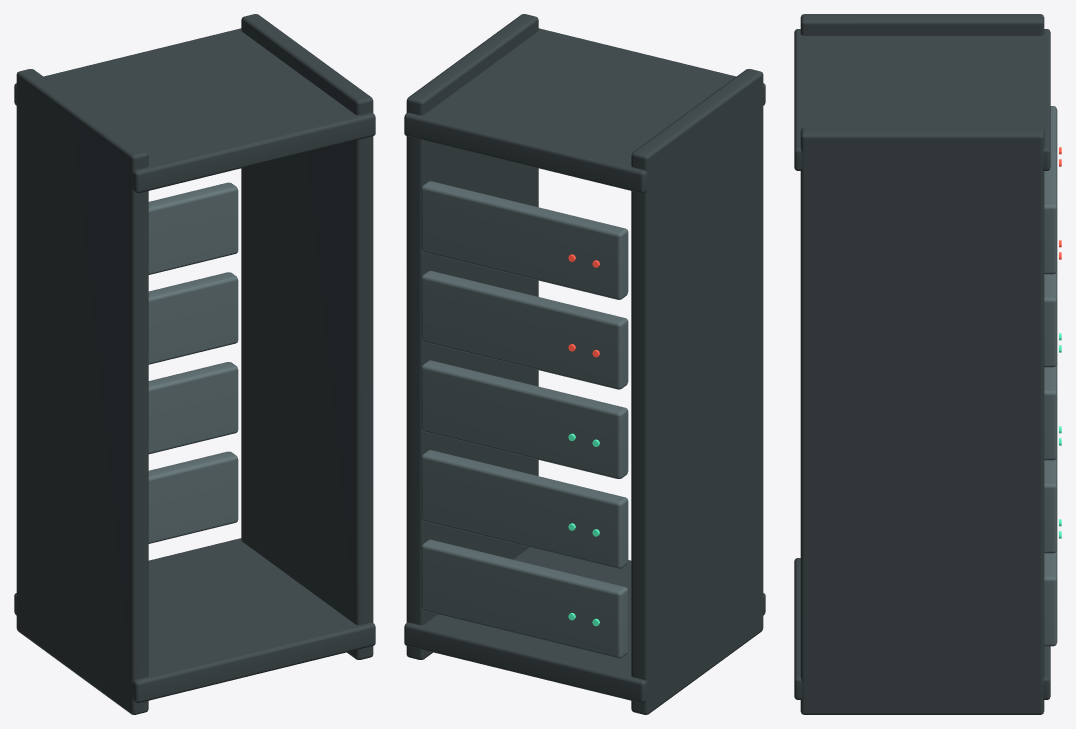
Rendered from equipment_rack.glb.
3 views of the same model, side by side, from view 1: azimuth 30°, elevation 25°; view 2: azimuth 150°, elevation 25°; view 3: azimuth 270°, elevation 25° (orthographic). The views are drawn at different scales.
Parts seen in each view (by area): view 1: VIS_equipment_rack_upright_-0.42, VIS_equipment_rack_upright_0.42, VIS_equipment_rack_header_0.91, VIS_equipment_rack_header_-0.91, VIS_equipment_rack_module_0, VIS_equipment_rack_module_2, VIS_equipment_rack_module_3, VIS_equipment_rack_module_1; view 2: VIS_equipment_rack_upright_-0.42, VIS_equipment_rack_header_0.91, VIS_equipment_rack_upright_0.42, VIS_equipment_rack_module_1, VIS_equipment_rack_module_4, VIS_equipment_rack_module_0, VIS_equipment_rack_module_3, VIS_equipment_rack_module_2, VIS_equipment_rack_header_-0.91; view 3: VIS_equipment_rack_upright_0.42, VIS_equipment_rack_header_0.91, VIS_equipment_rack_upright_-0.42, VIS_equipment_rack_module_4, VIS_equipment_rack_header_-0.91, VIS_equipment_rack_module_0, VIS_equipment_rack_module_1, VIS_equipment_rack_module_2, VIS_equipment_rack_module_3.
Part boxes in pixels (x1,y1,x2,y2): VIS_equipment_rack_upright_-0.42: [16, 69, 148, 714]; VIS_equipment_rack_upright_0.42: [241, 14, 373, 659]; VIS_equipment_rack_header_0.91: [14, 28, 375, 193]; VIS_equipment_rack_header_-0.91: [14, 538, 375, 702]; VIS_equipment_rack_module_0: [148, 451, 238, 543]; VIS_equipment_rack_module_2: [148, 272, 238, 364]; VIS_equipment_rack_module_3: [148, 182, 238, 274]; VIS_equipment_rack_module_1: [148, 362, 238, 454]; VIS_equipment_rack_upright_-0.42: [631, 69, 763, 714]; VIS_equipment_rack_header_0.91: [404, 28, 765, 193]; VIS_equipment_rack_upright_0.42: [406, 14, 538, 659]; VIS_equipment_rack_module_1: [421, 450, 628, 568]; VIS_equipment_rack_module_4: [421, 181, 628, 299]; VIS_equipment_rack_module_0: [421, 539, 628, 658]; VIS_equipment_rack_module_3: [421, 271, 628, 389]; VIS_equipment_rack_module_2: [421, 360, 628, 478]; VIS_equipment_rack_header_-0.91: [404, 547, 765, 702]; VIS_equipment_rack_upright_0.42: [800, 128, 1044, 714]; VIS_equipment_rack_header_0.91: [794, 29, 1050, 170]; VIS_equipment_rack_upright_-0.42: [800, 14, 1044, 35]; VIS_equipment_rack_module_4: [1044, 106, 1057, 274]; VIS_equipment_rack_header_-0.91: [794, 558, 1050, 699]; VIS_equipment_rack_module_0: [1044, 550, 1057, 646]; VIS_equipment_rack_module_1: [1044, 457, 1057, 553]; VIS_equipment_rack_module_2: [1044, 364, 1057, 460]; VIS_equipment_rack_module_3: [1044, 271, 1057, 367].
Size of the model in its own units: 0.905 by 2 by 0.8345.
